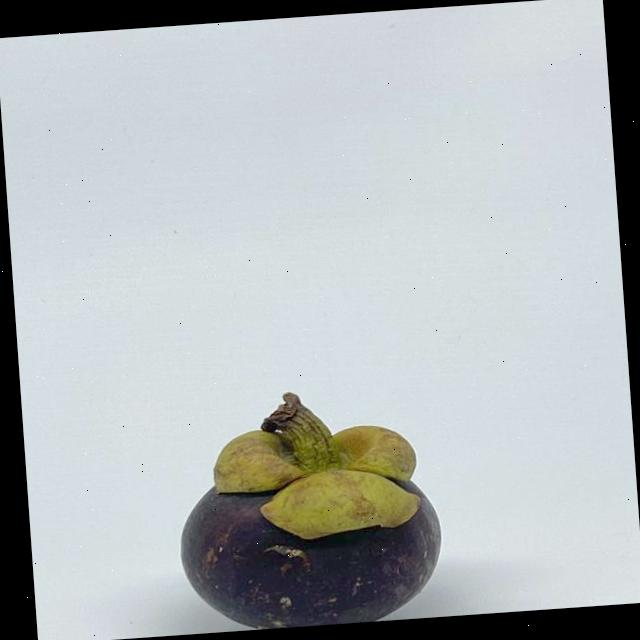mangosteen: (164, 379, 472, 632)
